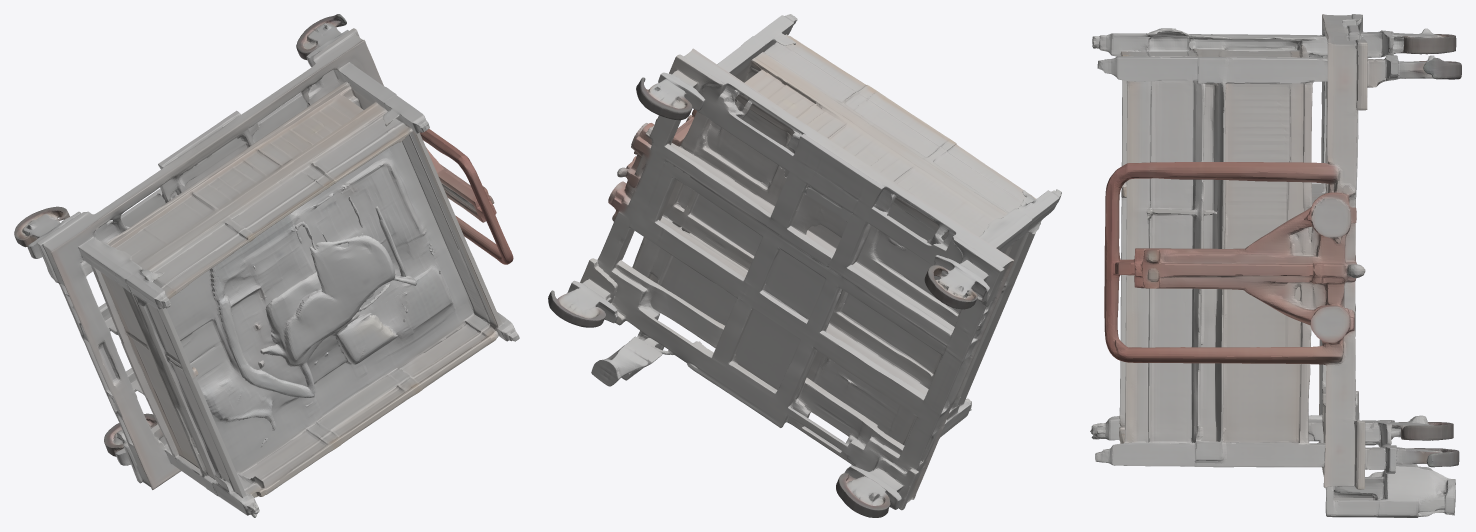
File: entity-cart.glb
3 renders of one model, left to right at view 1: azimuth 30°, elevation 25°; view 2: azimuth 150°, elevation 25°; view 3: azimuth 270°, elevation 25°, orthographic. The views are drawn at different scales.
Visible parts, largest first — view 1: geometry_0; view 2: geometry_0; view 3: geometry_0.
Part boxes in pixels (<box>): geometry_0: <box>14,14,519,517</box>; geometry_0: <box>548,14,1061,517</box>; geometry_0: <box>1090,14,1461,517</box>.
Bounding box in the file's own units: 2.98 × 2.67 × 1.59.
